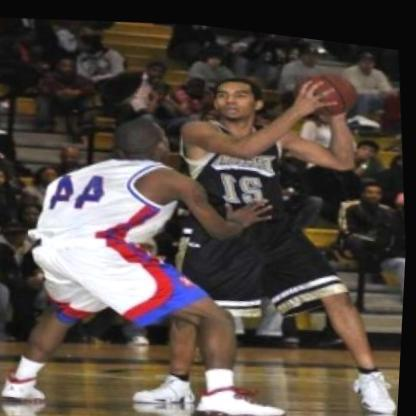basketball: (298, 51, 361, 114)
